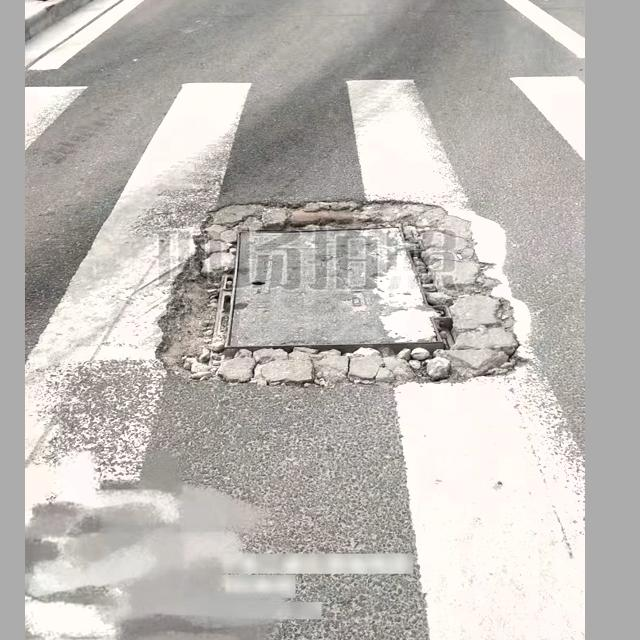circle: (242, 455, 640, 640)
